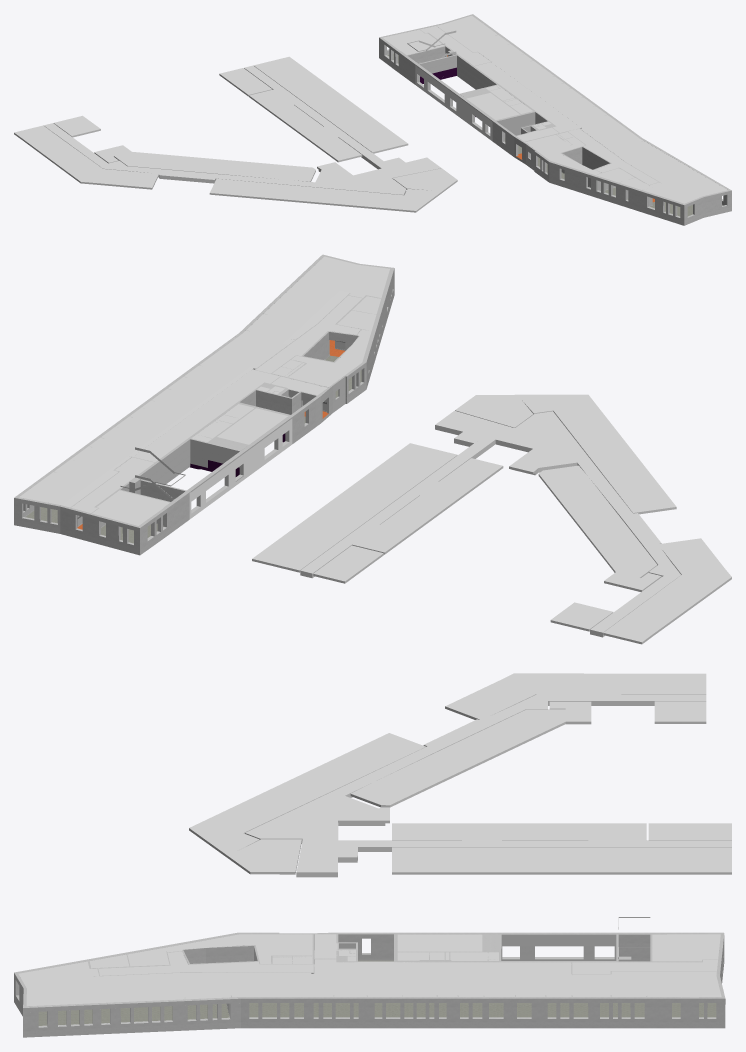
The model's file is 1_floor_aisle_b.gltf.
The picture shows the model from 3 angles, top to bottom: view 1: azimuth 30°, elevation 25°; view 2: azimuth 150°, elevation 25°; view 3: azimuth 270°, elevation 25°; orthographic projection. The views are drawn at different scales.
Visible parts, largest first — view 1: Cube_093, Cube_068, Cube_066; view 2: Cube_093, Cube_068, Cube_066; view 3: Cube_093, Cube_068, Cube_066.
Part boxes in pixels (x1,y1,x2,y2): Cube_093: (14, 15, 727, 212); Cube_068: (379, 14, 731, 223); Cube_066: (379, 53, 731, 225); Cube_093: (19, 256, 731, 644); Cube_068: (14, 254, 394, 552); Cube_066: (14, 293, 394, 555); Cube_093: (18, 673, 731, 1006); Cube_068: (14, 917, 725, 1034); Cube_066: (14, 960, 725, 1037).
Size of the model in its own units: 83.6 by 8.63 by 75.79.
